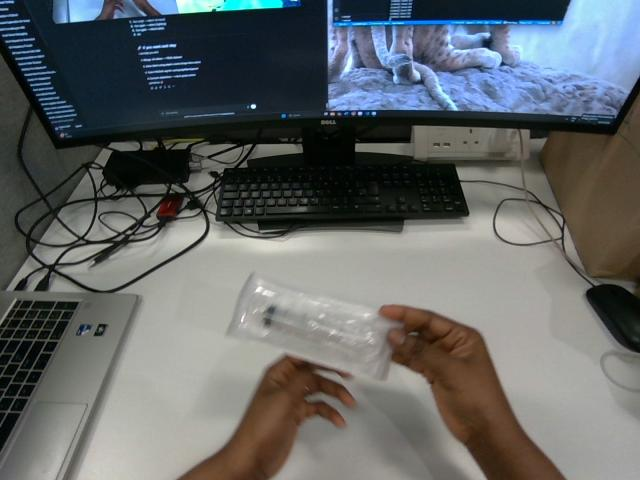syringe: (227, 274, 398, 379)
